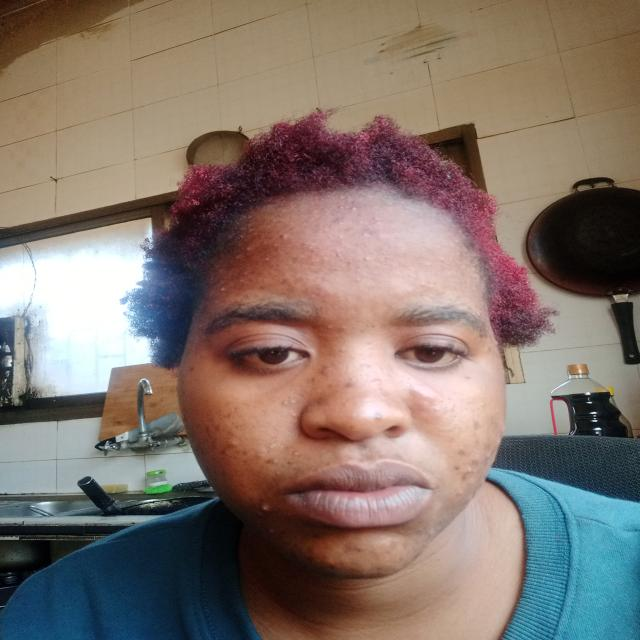Acne: (207, 419, 247, 458), (470, 418, 500, 468), (405, 381, 441, 410), (264, 450, 302, 475), (452, 448, 476, 483), (309, 363, 331, 383), (359, 453, 406, 461), (232, 270, 251, 284), (278, 395, 301, 406), (340, 379, 358, 391), (307, 286, 323, 298), (344, 542, 363, 551), (307, 207, 331, 214), (370, 376, 382, 388), (386, 540, 398, 552), (260, 240, 277, 248), (455, 489, 467, 500), (332, 248, 344, 259), (425, 527, 437, 538), (259, 502, 270, 513), (371, 410, 383, 420), (324, 558, 336, 568), (359, 361, 372, 370), (369, 217, 382, 226), (255, 283, 268, 292), (401, 286, 413, 295), (325, 267, 339, 274), (337, 346, 347, 354), (232, 253, 243, 260), (289, 409, 297, 418), (265, 442, 277, 448), (277, 232, 287, 239), (336, 205, 350, 210), (478, 400, 488, 407), (261, 257, 272, 263), (290, 256, 298, 264), (269, 218, 285, 222), (338, 325, 347, 332), (346, 258, 355, 265), (265, 528, 275, 534), (243, 246, 253, 252), (279, 276, 289, 282), (361, 255, 370, 261), (356, 219, 365, 225), (417, 283, 427, 288), (318, 256, 328, 261), (217, 286, 225, 292), (337, 234, 345, 240), (455, 251, 463, 257), (327, 324, 336, 329), (278, 208, 287, 213), (350, 205, 360, 209), (424, 261, 430, 267), (460, 264, 469, 268), (300, 241, 308, 245), (361, 233, 369, 237), (439, 257, 445, 261), (336, 220, 344, 223), (356, 277, 362, 281)
